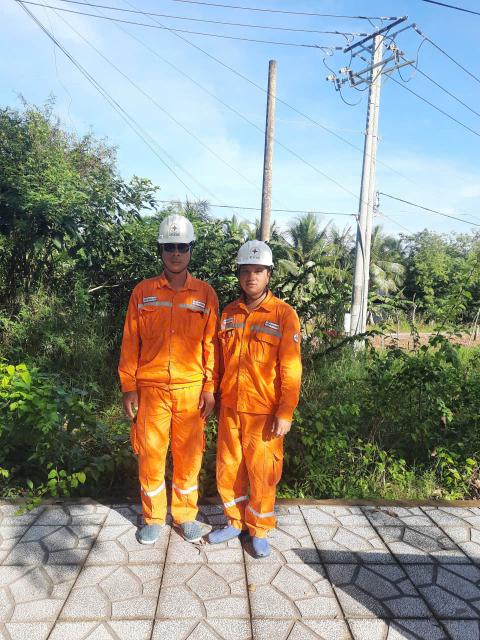helmet: (221, 236, 281, 272), (156, 218, 200, 245)
shoes: (206, 519, 248, 553), (250, 522, 278, 560), (175, 516, 207, 545), (138, 516, 166, 548)
